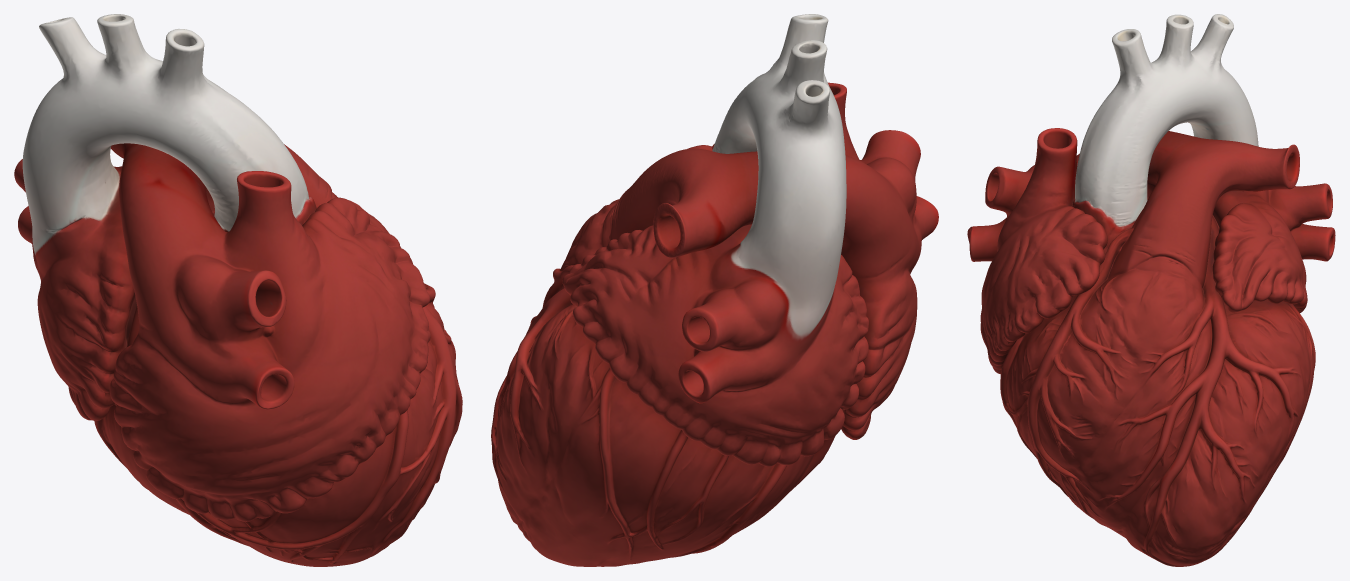
Rendered from heart-tripo.glb.
3 renders of one model, left to right at view 1: azimuth 30°, elevation 25°; view 2: azimuth 150°, elevation 25°; view 3: azimuth 270°, elevation 25°, orthographic. The views are drawn at different scales.
Visible parts, largest first — view 1: tripo_node_df84a975-faf6-43bc-b701-a7d210e034db; view 2: tripo_node_df84a975-faf6-43bc-b701-a7d210e034db; view 3: tripo_node_df84a975-faf6-43bc-b701-a7d210e034db.
Part boxes in pixels (bbox=[...]): tripo_node_df84a975-faf6-43bc-b701-a7d210e034db: bbox=[14, 14, 462, 566]; tripo_node_df84a975-faf6-43bc-b701-a7d210e034db: bbox=[491, 14, 938, 566]; tripo_node_df84a975-faf6-43bc-b701-a7d210e034db: bbox=[967, 14, 1335, 566].
Size of the model in its own units: 0.6385 by 0.9808 by 0.721.
Materials: 1 (1 with a texture image).
